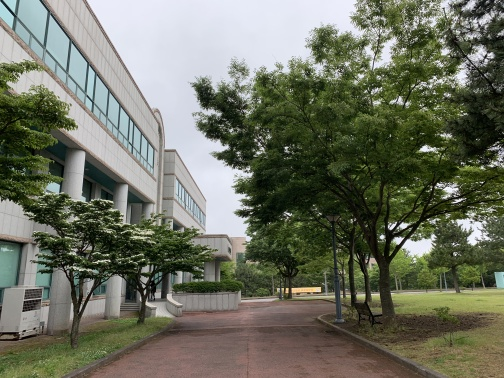Joint Experimental Labs: (232, 238, 246, 263)
Second Library: (68, 37, 232, 363)
